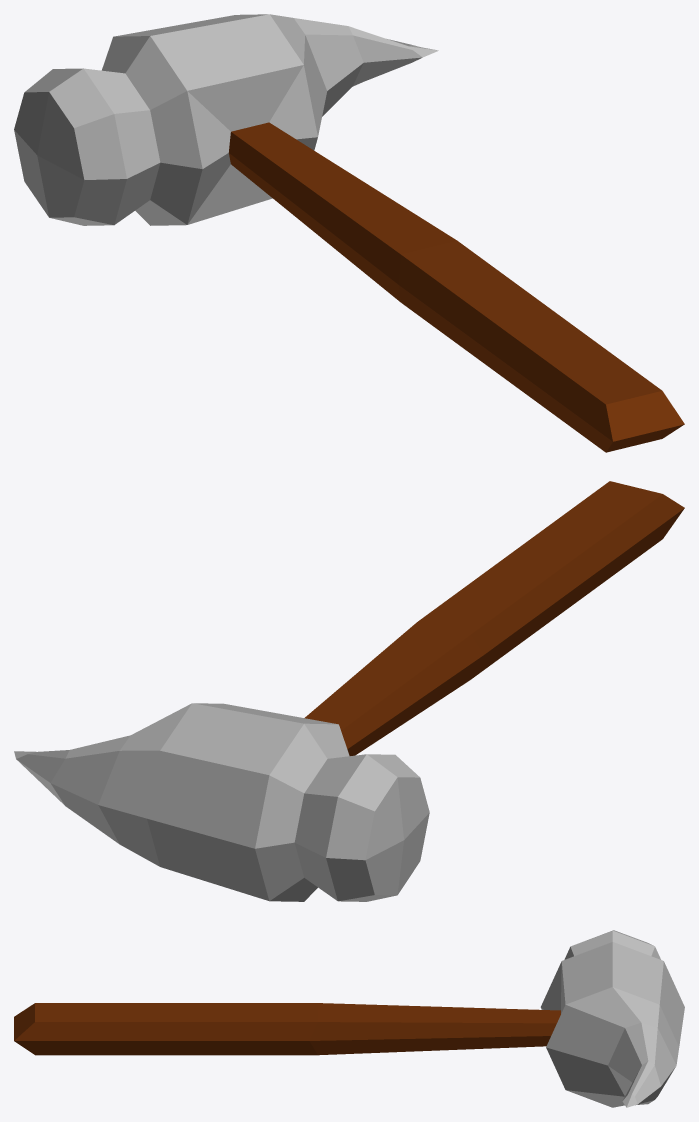
File: Hammer_01.fbx
3 views of the same model, one above another, from view 1: azimuth 30°, elevation 25°; view 2: azimuth 150°, elevation 25°; view 3: azimuth 270°, elevation 25° (orthographic). The views are drawn at different scales.
Parts seen in each view (by area): view 1: Hammer_01; view 2: Hammer_01; view 3: Hammer_01.
Part boxes in pixels (left/top/right/bottom): Hammer_01: left=14, top=14, right=684, bottom=452; Hammer_01: left=14, top=481, right=684, bottom=901; Hammer_01: left=14, top=930, right=684, bottom=1107.
Size of the model in its own units: 48.28 by 21.42 by 99.51.
